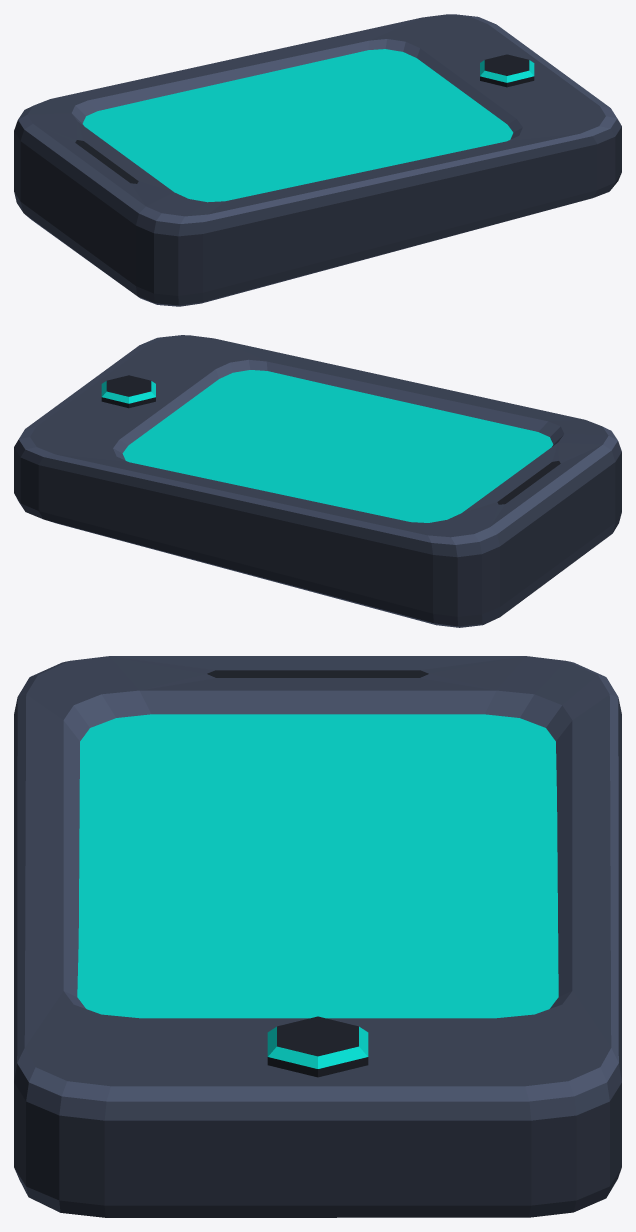
The model's file is Prop_Smartphone_00.fbx.
3 views of the same model, one above another, from view 1: azimuth 30°, elevation 25°; view 2: azimuth 150°, elevation 25°; view 3: azimuth 270°, elevation 25° (orthographic). The views are drawn at different scales.
Parts seen in each view (by area): view 1: MODEL_Smartphone; view 2: MODEL_Smartphone; view 3: MODEL_Smartphone.
Boxes of the visible parts, left/top/right/bottom form: MODEL_Smartphone: left=14, top=14, right=621, bottom=306; MODEL_Smartphone: left=14, top=335, right=621, bottom=627; MODEL_Smartphone: left=14, top=656, right=621, bottom=1217.
Bounding box in the file's own units: 236 × 48.63 × 140.
